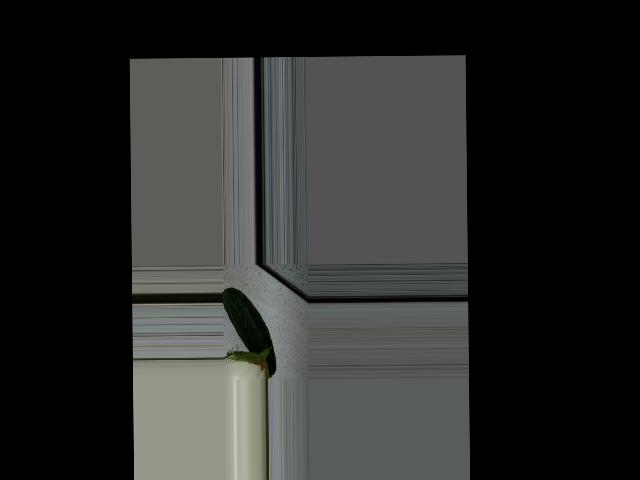cucumber: (222, 286, 275, 378)
